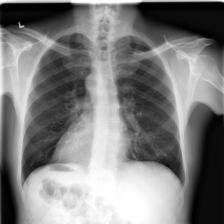normal: (17, 26, 190, 189)
